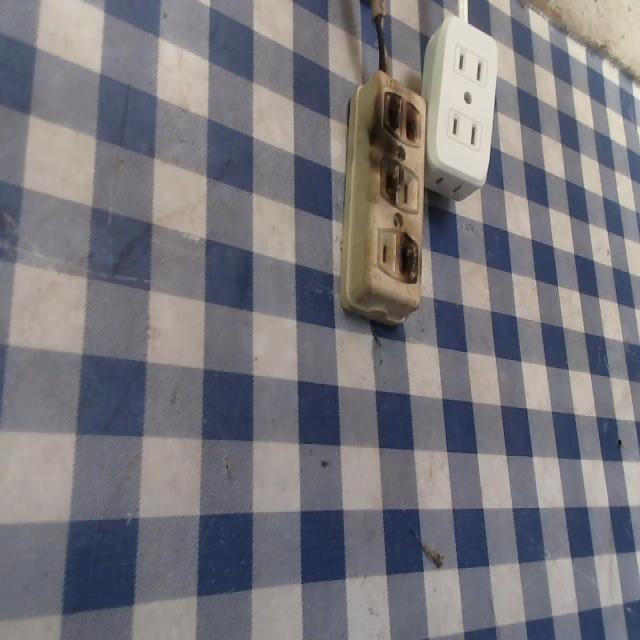-: (364, 79, 429, 153), (364, 143, 407, 209), (394, 230, 424, 290)
